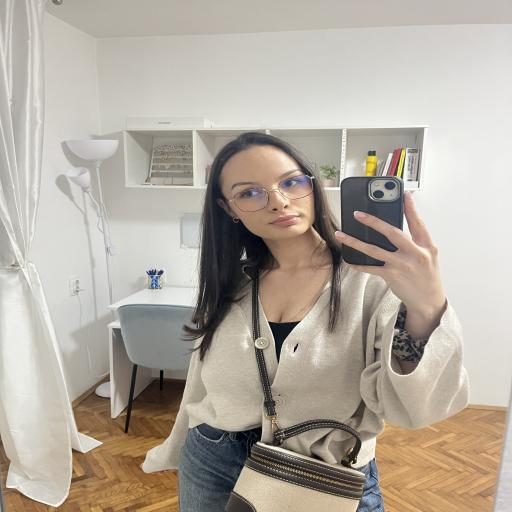marija: (212, 142, 315, 238)
